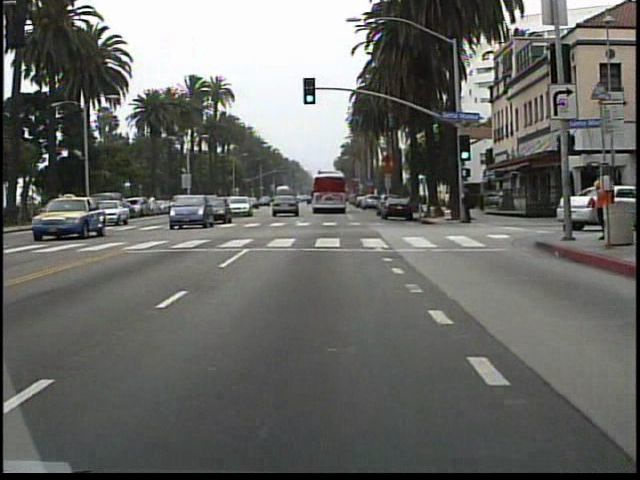person: (588, 164, 612, 239), (459, 182, 475, 228)
